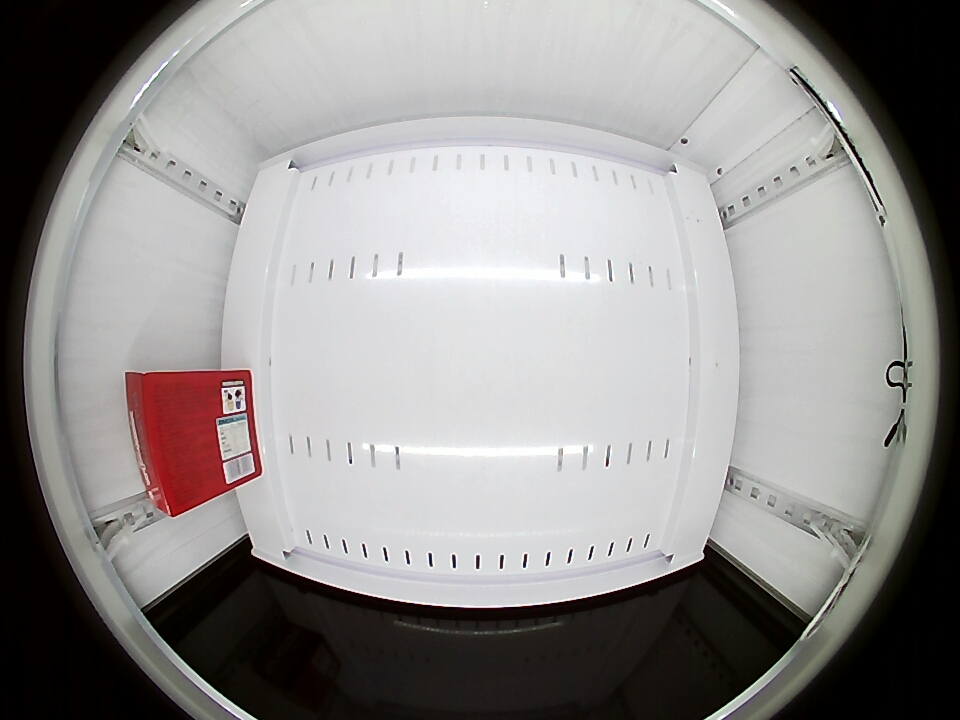haoliyou: (127, 371, 221, 517)
